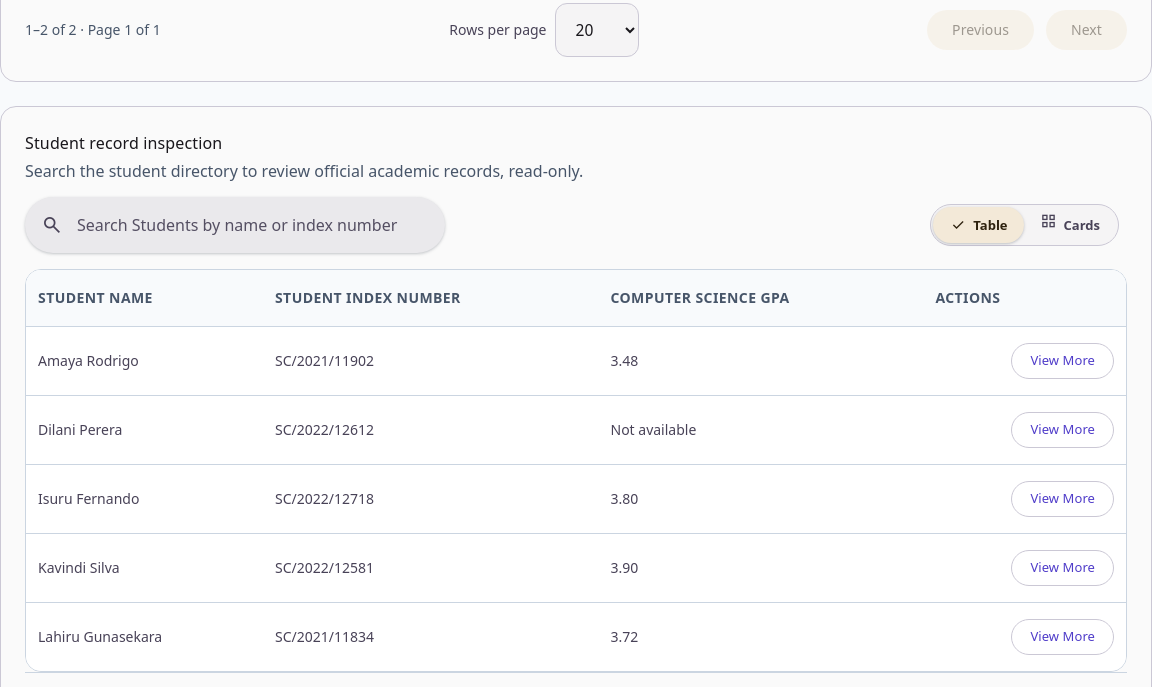
Test: Academic Ledger read-only inspection › supports subject search and filtering and restores focus when the modal closes
(page scrolled)
Click the button "View More" in the row of "Amaya Rodrigo" at (1063, 361), box [1011,343,1114,379]
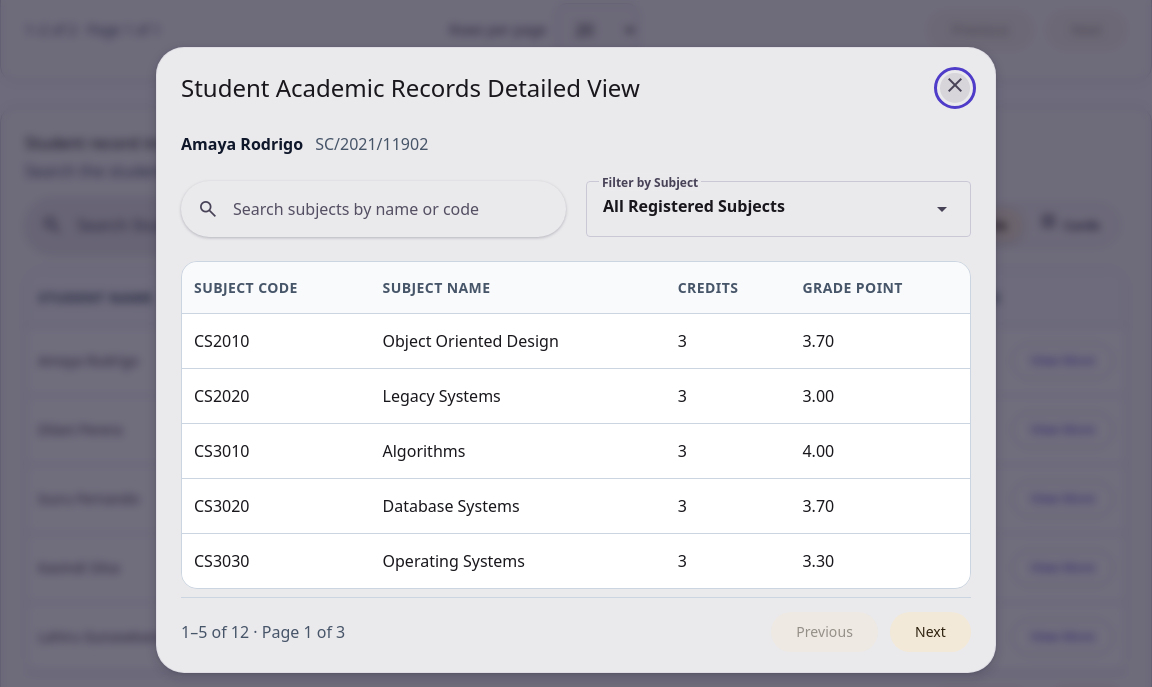
Type "Distributed" into the search field labelled "Search subject" at (384, 209), box [231,181,538,237]
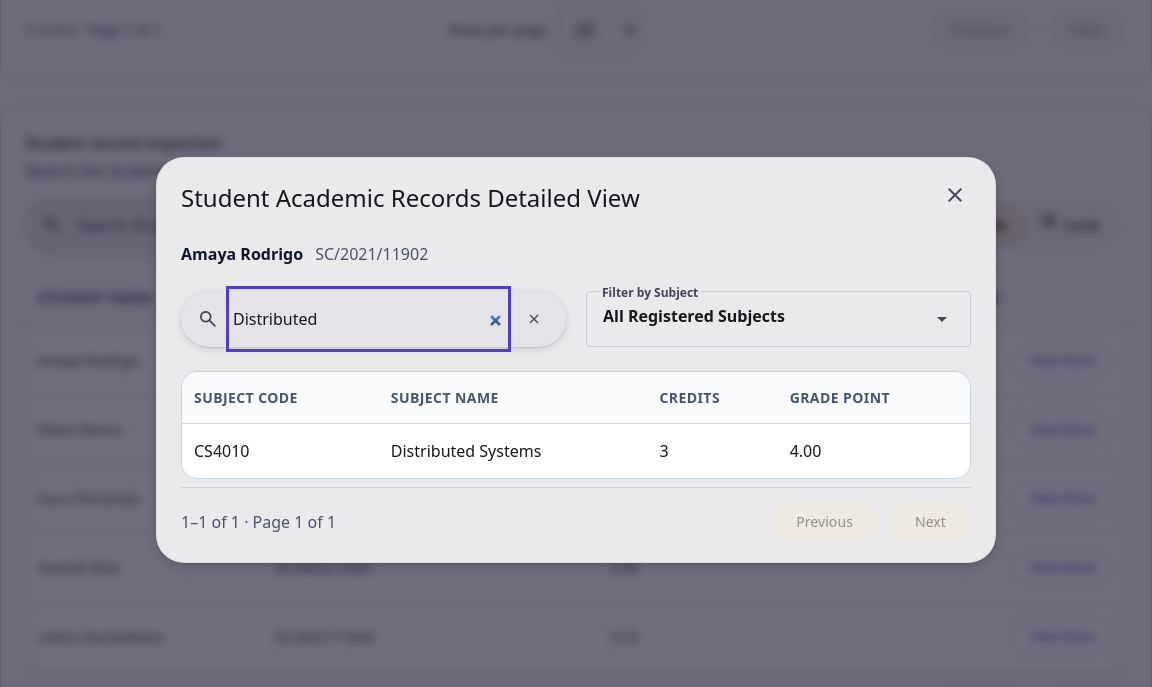
Expected: the text "Distributed Systems" is shown, [379,424,648,478]
Clear the search field named "Search subject" at (368, 319), box [231,291,506,347]
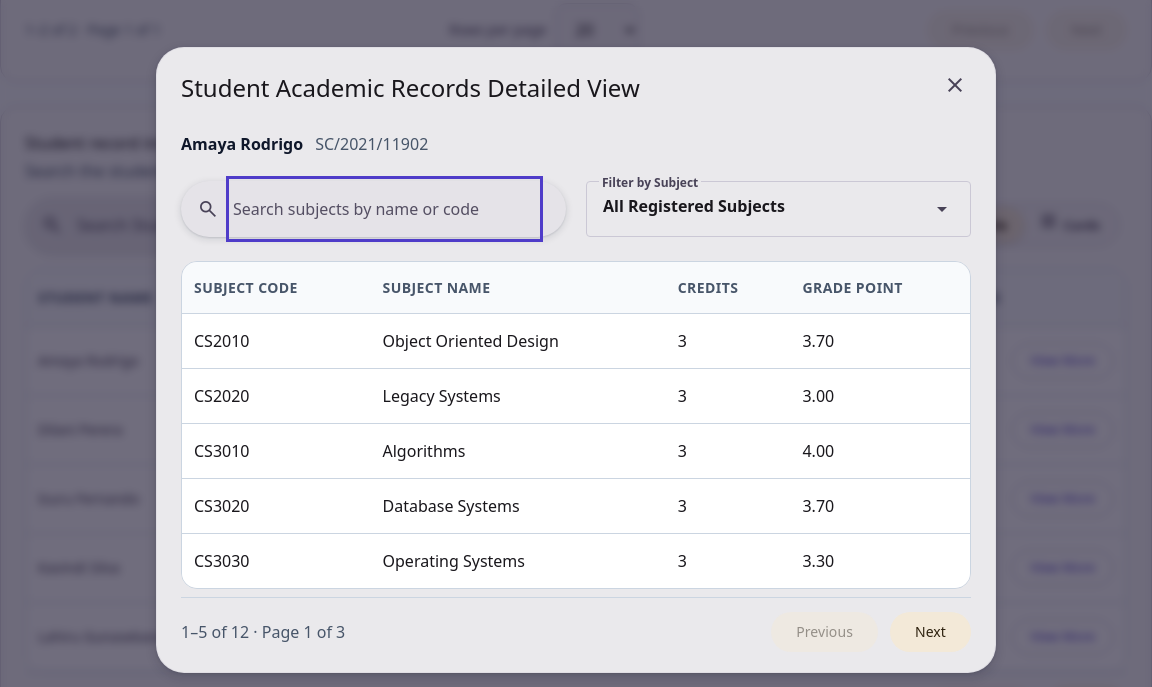
Select "CS4010 - Distributed Systems" in the dropdown labelled "Filter by Subject" at (650, 182), box [599,174,701,190]
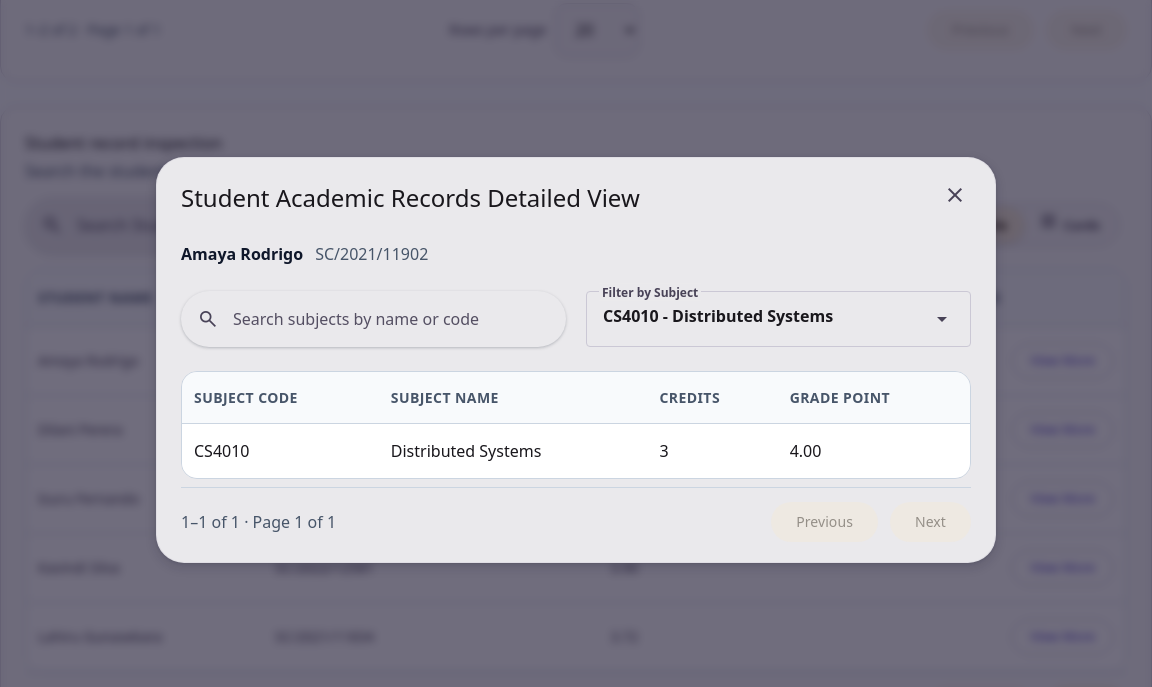
Expected: the text "Distributed Systems" is shown, [379,424,648,478]
Click the button named "Close Student Academic Records Detailed View" at (955, 198), box [939,182,971,214]
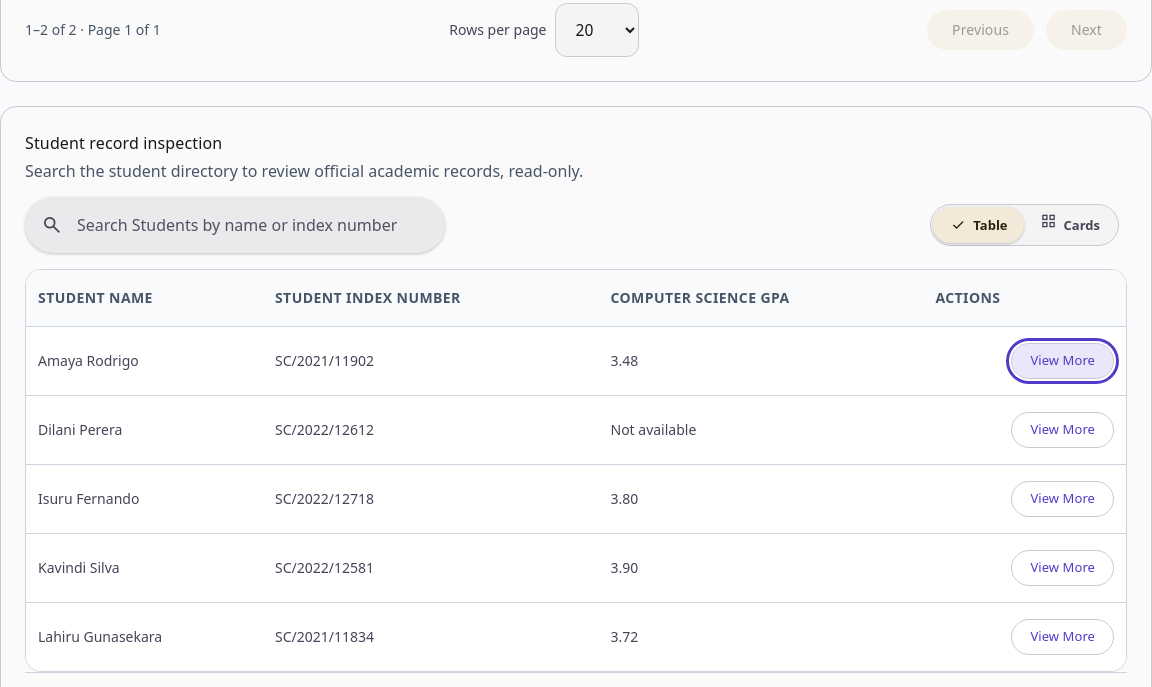
Expected: the dialog is gone
